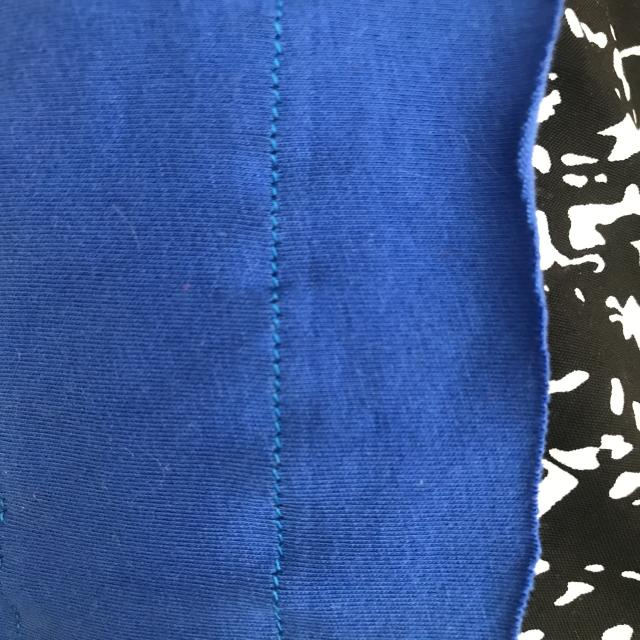good: (260, 291, 304, 515), (259, 43, 302, 227)
